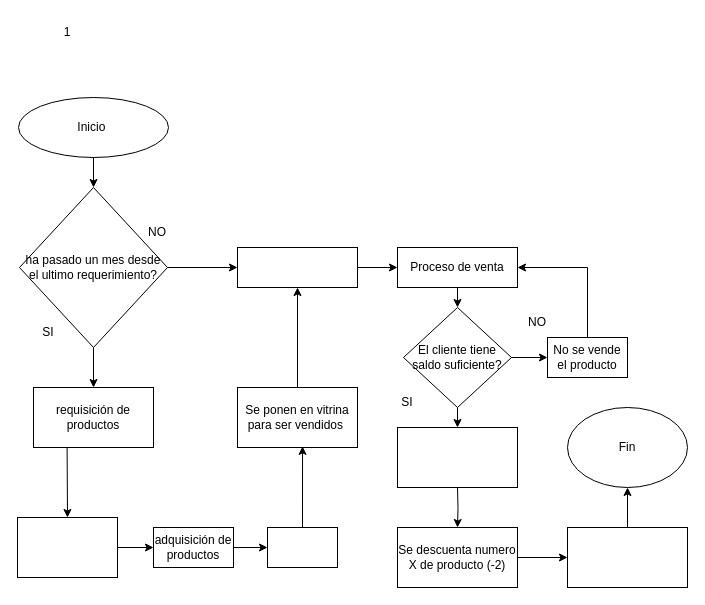
The diagram is 705 pixels wide and 605 high, and some of its shapes have lost their labels. Here are the shapes that lost their labels. From the top down, the centre of each, then its label:
At (297,267): "Confirmación de productos".
At (457,457): "Venta producto".
At (67,547): "contacto proveedor (Fritolay, postobon)".
At (302,547): "Ingreso de productos".
At (627,557): "Salida de productos desde la base de datos".
